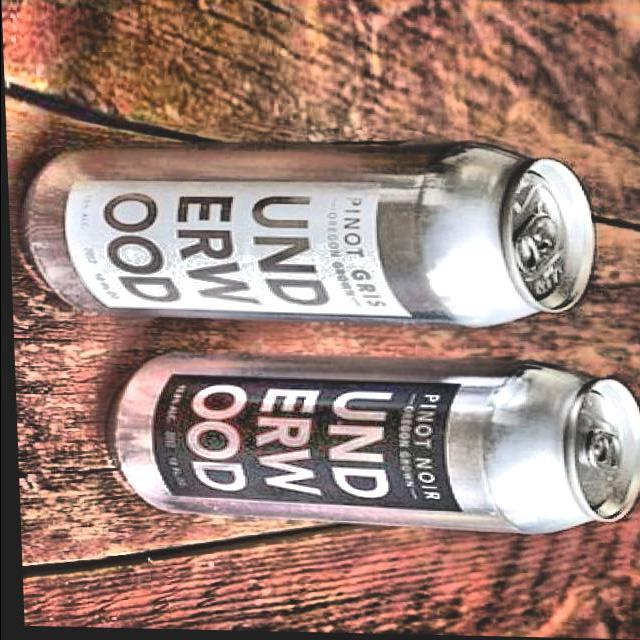Aluminum Can: (11, 136, 602, 330), (89, 345, 640, 547)
